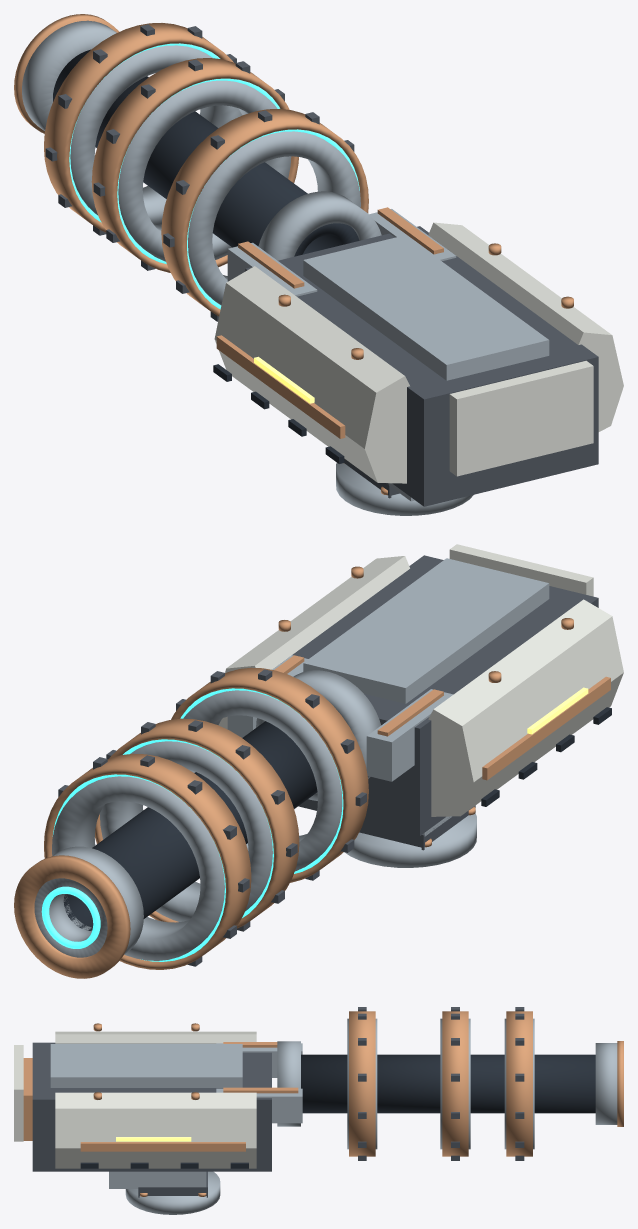
File: M01-007_impulse_ring_cannon_animated.glb
3 views of the same model, one above another, from view 1: azimuth 30°, elevation 25°; view 2: azimuth 150°, elevation 25°; view 3: azimuth 270°, elevation 25° (orthographic). The views are drawn at different scales.
Parts seen in each view (by area): view 1: M01_007_Faceted_Ceramic_Shell_L, M01_007_Upper_Spine, M01_007_Breech_Core, M01_007_Rear_Heat_Shield, M01_007_Hollow_Cannon_Barrel, M01_007_Ring_01_Titanium, M01_007_Faceted_Ceramic_Shell_R, M01_007_Ring_01_Copper_Edge, M01_007_Ring_02_Copper_Edge, M01_007_Ring_02_Titanium, M01_007_Ring_03_Copper_Edge, M01_007_Ring_03_Titanium (+11 smaller); view 2: M01_007_Faceted_Ceramic_Shell_L, M01_007_Upper_Spine, M01_007_Breech_Core, M01_007_Hollow_Cannon_Barrel, M01_007_Ring_03_Titanium, M01_007_Ring_03_Copper_Edge, M01_007_Ring_02_Copper_Edge, M01_007_Ring_01_Copper_Edge, M01_007_Ring_02_Titanium, M01_007_Muzzle_Copper_Lip, M01_007_Ring_01_Titanium, M01_007_Faceted_Ceramic_Shell_R (+13 smaller); view 3: M01_007_Faceted_Ceramic_Shell_R, M01_007_Hollow_Cannon_Barrel, M01_007_Upper_Spine, M01_007_Breech_Core, M01_007_Ring_01_Copper_Edge, M01_007_Ring_03_Copper_Edge, M01_007_Ring_02_Copper_Edge, M01_007_Faceted_Ceramic_Shell_L, M01_007_Muzzle_Brake, M01_007_Top_Mount_Plate, M01_007_Central_Pedestal, M01_007_Copper_Edge_R (+12 smaller).
Part boxes in pixels (box(x1,y1,x2,y2)): M01_007_Faceted_Ceramic_Shell_L: box(214, 266, 409, 483); M01_007_Upper_Spine: box(303, 235, 549, 380); M01_007_Breech_Core: box(245, 226, 598, 506); M01_007_Rear_Heat_Shield: box(449, 360, 593, 476); M01_007_Hollow_Cannon_Barrel: box(53, 49, 359, 256); M01_007_Ring_01_Titanium: box(188, 131, 360, 305); M01_007_Faceted_Ceramic_Shell_R: box(428, 222, 623, 431); M01_007_Ring_01_Copper_Edge: box(161, 109, 368, 316); M01_007_Ring_02_Copper_Edge: box(91, 58, 298, 272); M01_007_Ring_02_Titanium: box(118, 80, 291, 261); M01_007_Ring_03_Copper_Edge: box(44, 23, 233, 232); M01_007_Ring_03_Titanium: box(70, 45, 242, 225); M01_007_Faceted_Ceramic_Shell_L: box(428, 599, 623, 816); M01_007_Upper_Spine: box(303, 558, 549, 703); M01_007_Breech_Core: box(292, 555, 598, 835); M01_007_Hollow_Cannon_Barrel: box(63, 721, 317, 930); M01_007_Ring_03_Titanium: box(52, 776, 224, 960); M01_007_Ring_03_Copper_Edge: box(44, 753, 251, 969); M01_007_Ring_02_Copper_Edge: box(95, 718, 299, 928); M01_007_Ring_01_Copper_Edge: box(171, 667, 368, 882); M01_007_Ring_02_Titanium: box(99, 741, 272, 921); M01_007_Muzzle_Copper_Lip: box(14, 855, 130, 978); M01_007_Ring_01_Titanium: box(183, 690, 342, 871); M01_007_Faceted_Ceramic_Shell_R: box(218, 556, 409, 729); M01_007_Faceted_Ceramic_Shell_R: box(55, 1092, 256, 1168); M01_007_Hollow_Cannon_Barrel: box(301, 1054, 595, 1113); M01_007_Upper_Spine: box(50, 1044, 242, 1087); M01_007_Breech_Core: box(32, 1042, 271, 1171); M01_007_Ring_01_Copper_Edge: box(349, 1011, 375, 1156); M01_007_Ring_03_Copper_Edge: box(506, 1011, 532, 1156); M01_007_Ring_02_Copper_Edge: box(442, 1011, 468, 1156); M01_007_Faceted_Ceramic_Shell_L: box(55, 1031, 256, 1043); M01_007_Muzzle_Brake: box(595, 1043, 617, 1124); M01_007_Top_Mount_Plate: box(125, 1171, 220, 1214); M01_007_Central_Pedestal: box(109, 1171, 206, 1188); M01_007_Copper_Edge_R: box(80, 1142, 245, 1151).
Bounding box in the file's own units: 0.773 × 0.714 × 2.19.
